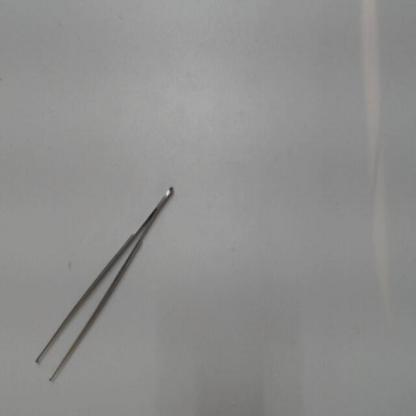Gillies Toothed Dissector: (23, 179, 184, 395)
